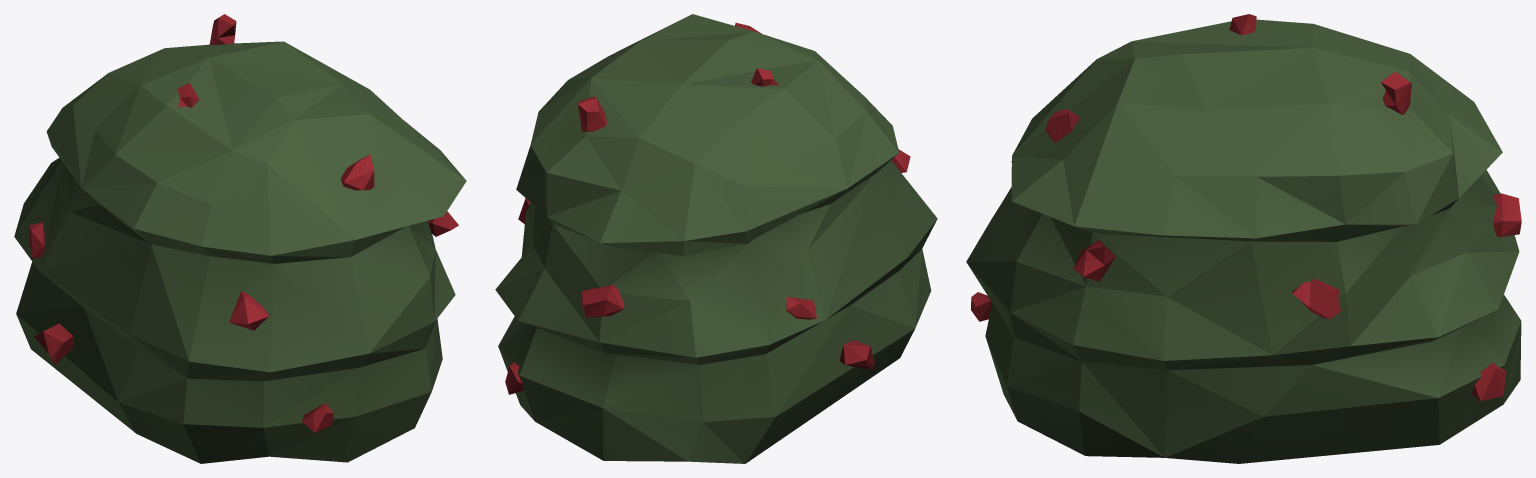
The model's file is bush-berries-1.glb.
3 renders of one model, left to right at view 1: azimuth 30°, elevation 25°; view 2: azimuth 150°, elevation 25°; view 3: azimuth 270°, elevation 25°, orthographic. The views are drawn at different scales.
Visible parts, largest first — view 1: bush-berries-1; view 2: bush-berries-1; view 3: bush-berries-1.
Part boxes in pixels (bbox=[...]): bush-berries-1: bbox=[14, 14, 466, 463]; bush-berries-1: bbox=[495, 14, 937, 463]; bush-berries-1: bbox=[966, 14, 1521, 463].
Bounding box in the file's own units: 1.21 × 1.1 × 1.49.
